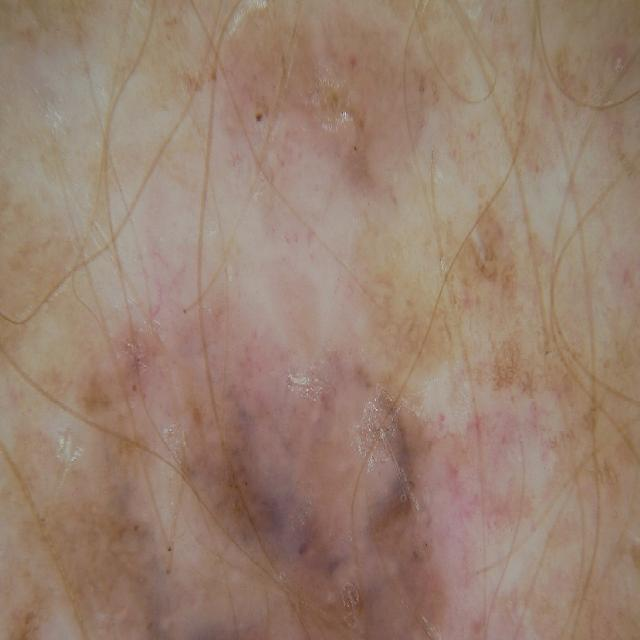Melanoma: (84, 221, 515, 640)
